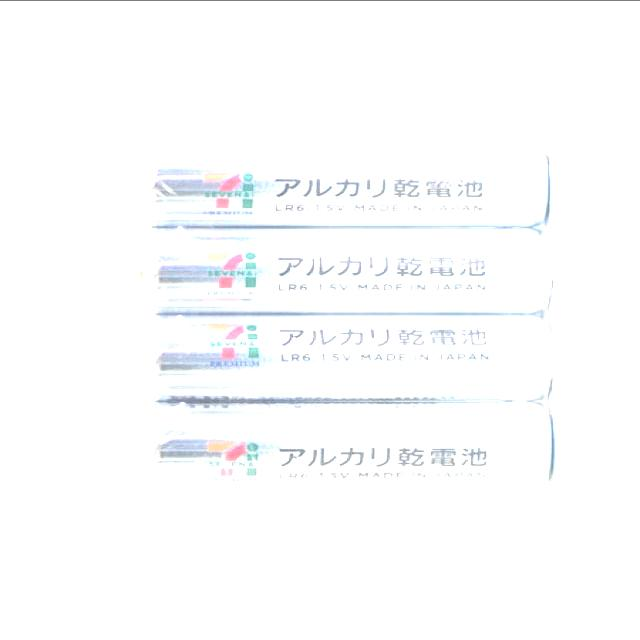AAA: (120, 130, 554, 228), (120, 223, 562, 317), (120, 310, 557, 401), (128, 401, 558, 492)
